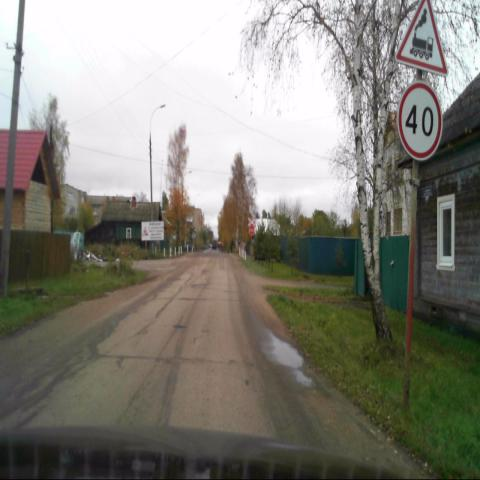1_2: (395, 12, 449, 73)
3_24: (398, 81, 443, 166)
